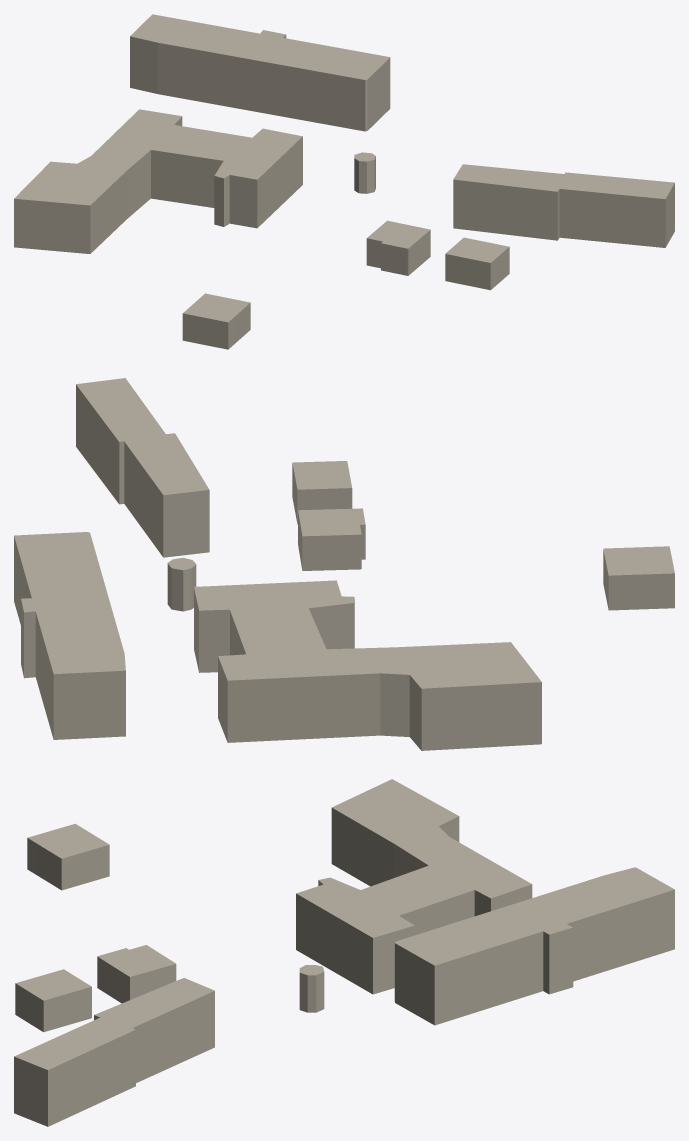
Rendered from birgu_62_23_collision.glb.
3 views of the same model, one above another, from view 1: azimuth 30°, elevation 25°; view 2: azimuth 150°, elevation 25°; view 3: azimuth 270°, elevation 25° (orthographic). The views are drawn at different scales.
Parts seen in each view (by area): view 1: geometry_0; view 2: geometry_0; view 3: geometry_0.
Part boxes in pixels (x1,y1,x2,y2): geometry_0: [14, 14, 674, 349]; geometry_0: [14, 378, 674, 750]; geometry_0: [14, 779, 674, 1126].
Size of the model in its own units: 200 by 30.43 by 192.
